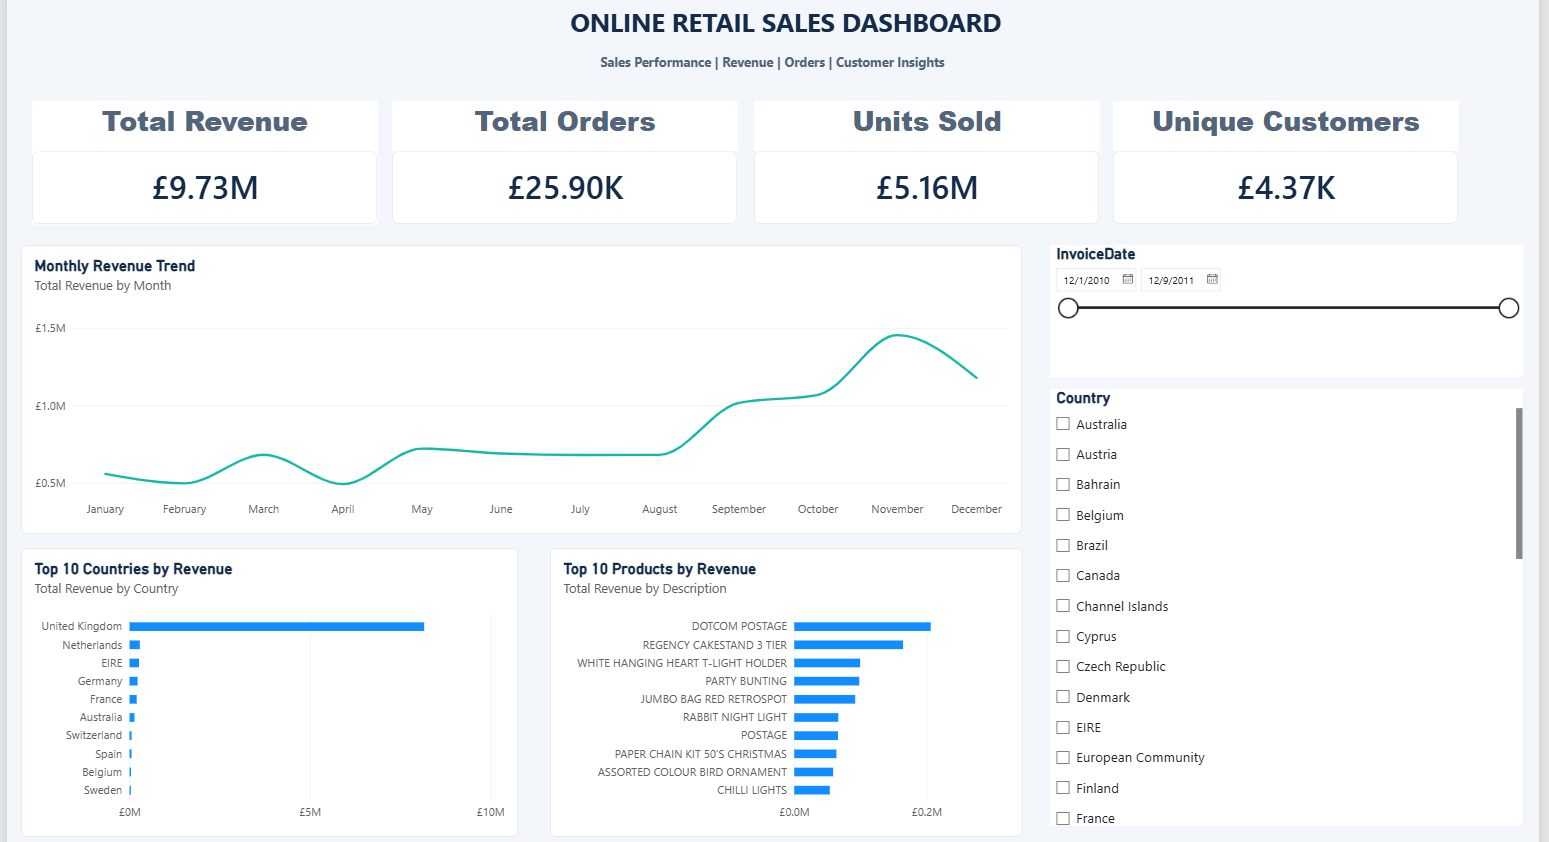

What the dashboard file says about the page in this screenshot:
{"tool":"powerbi","page":{"name":"Page 1","canvas":[1920,1080],"ordinal":0},"visuals":[{"type":"cardVisual","title":"Total Revenue","fields":{"Data":["cleaned_online_retail.Total Revenue"]},"box":[31.3,139.1,433,154.8],"z":0},{"type":"cardVisual","title":"Total Orders","fields":{"Data":["cleaned_online_retail.Total Orders"]},"box":[482,139.1,433,154.8],"z":1000},{"type":"cardVisual","title":"Units Sold","fields":{"Data":["cleaned_online_retail.Units Sold"]},"box":[936.5,139.1,433,154.8],"z":2000},{"type":"cardVisual","title":"Unique Customers","fields":{"Data":["cleaned_online_retail.Unique Customers"]},"box":[1385.1,139.1,433,154.8],"z":3000},{"type":"textbox","box":[31.3,17.6,1888.7,60.7],"z":4000},{"type":"textbox","box":[736.7,78.4,444.7,29.4],"z":5000},{"type":"lineChart","title":"Monthly Revenue Trend","fields":{"Category":["cleaned_online_retail.InvoiceDate.Variation.Date Hierarchy.Year","cleaned_online_retail.InvoiceDate.Variation.Date Hierarchy.Quarter","cleaned_online_retail.InvoiceDate.Variation.Date Hierarchy.Month","cleaned_online_retail.InvoiceDate.Variation.Date Hierarchy.Day"],"Y":["cleaned_online_retail.Total Revenue"]},"box":[17.6,319.3,1253.9,362.4],"z":5001},{"type":"clusteredBarChart","title":"Top 10 Countries by Revenue","fields":{"Category":["cleaned_online_retail.Country"],"Y":["cleaned_online_retail.Total Revenue"]},"box":[17.6,699.4,623,362.4],"z":5002},{"type":"clusteredBarChart","title":"Top 10 Products by Revenue","fields":{"Category":["cleaned_online_retail.Description"],"Y":["cleaned_online_retail.Total Revenue"]},"box":[679.8,699.4,591.7,362.4],"z":5003},{"type":"slicer","fields":{"Values":["cleaned_online_retail.Country"]},"box":[1306.8,499.6,591.7,546.6],"z":5004},{"type":"slicer","fields":{"Values":["cleaned_online_retail.InvoiceDate"]},"box":[1306.8,319.3,591.7,164.6],"z":5005}]}

Visuals, with their boxes on the page's 1920x1080 design canvas (x1, y1, x2, y2). These are canvas units, not pixel positions in the 1549x842 screenshot, which may show the page scaled, cropped or inside an application window:
"Total Revenue" cardVisual: <box>31,139,464,294</box>
"Total Orders" cardVisual: <box>482,139,915,294</box>
"Units Sold" cardVisual: <box>936,139,1370,294</box>
"Unique Customers" cardVisual: <box>1385,139,1818,294</box>
textbox: <box>31,18,1920,78</box>
textbox: <box>737,78,1181,108</box>
"Monthly Revenue Trend" lineChart: <box>18,319,1272,682</box>
"Top 10 Countries by Revenue" clusteredBarChart: <box>18,699,641,1062</box>
"Top 10 Products by Revenue" clusteredBarChart: <box>680,699,1272,1062</box>
slicer - cleaned_online_retail.Country: <box>1307,500,1898,1046</box>
slicer - cleaned_online_retail.InvoiceDate: <box>1307,319,1898,484</box>
